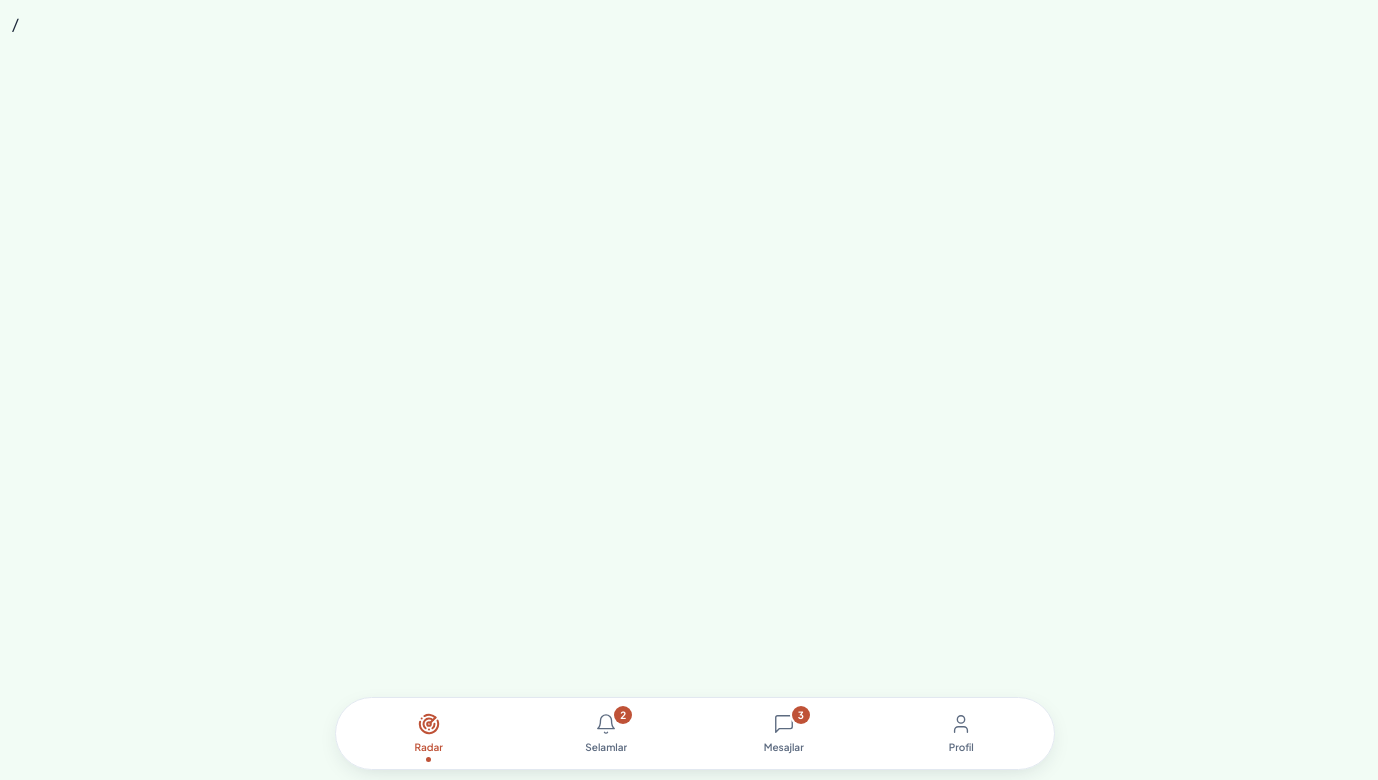
Scenario: keeps real routes and updates selected capsule on navigation
Step 1. Click the button "3 Mesajlar" → (784,734), box [697,704,870,763]
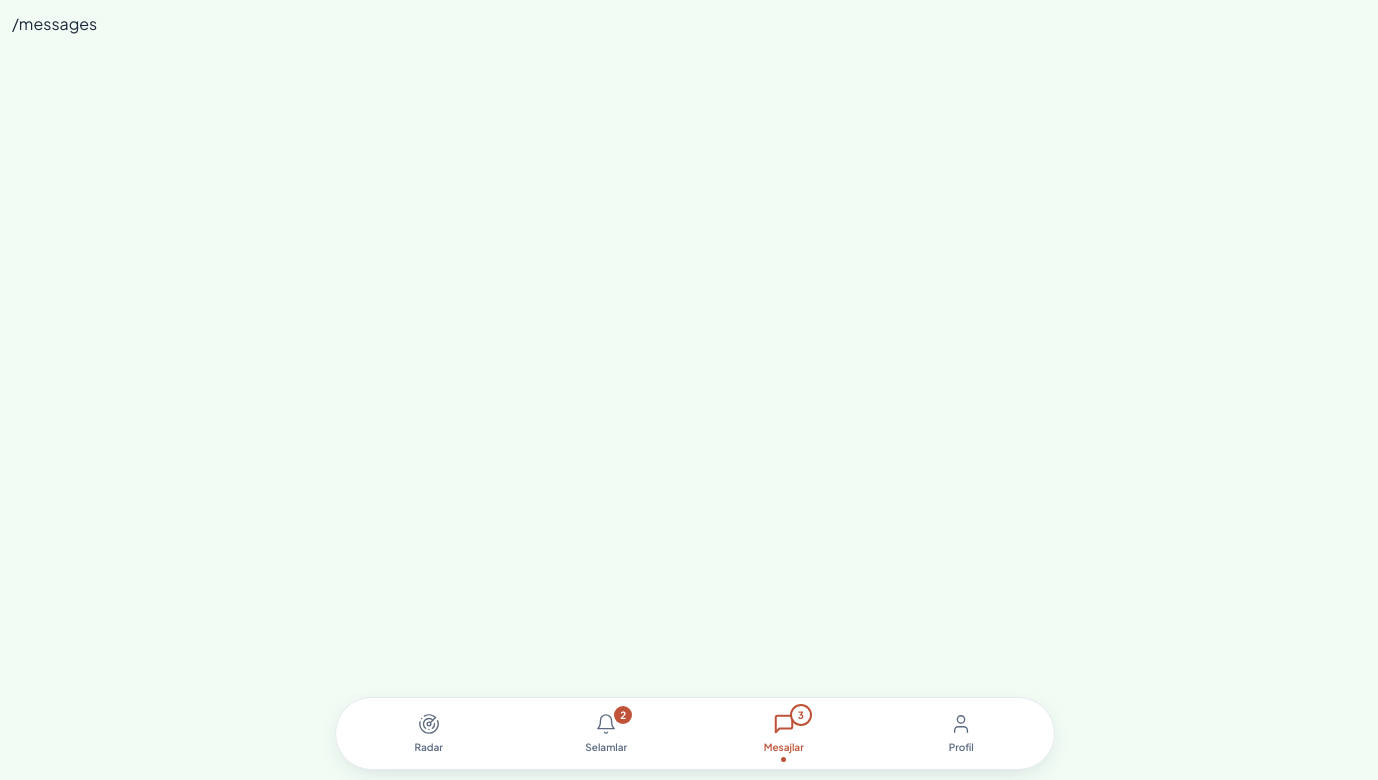
Result: the text with test id "path" reads "/messages" at [12,13,97,34]
